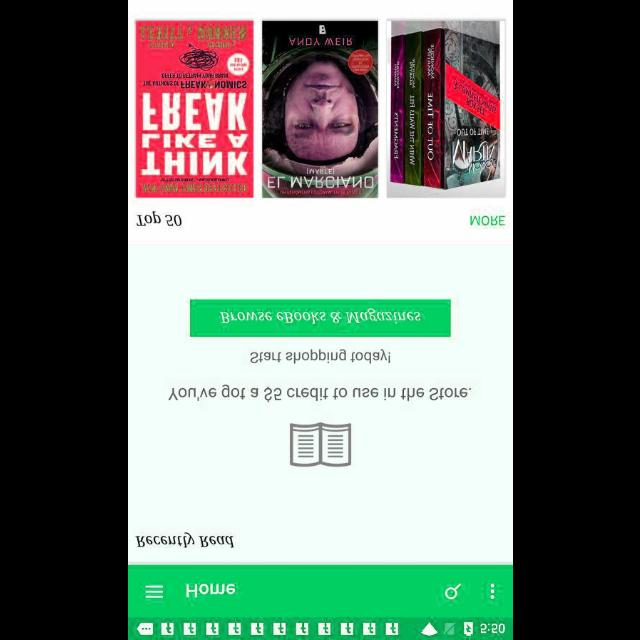icon: (444, 582, 462, 598), (144, 584, 164, 598), (490, 582, 494, 600)
image: (386, 20, 504, 198), (135, 21, 253, 198), (262, 22, 378, 198), (289, 422, 351, 468)
text: (168, 384, 470, 402), (250, 348, 390, 364), (134, 532, 233, 548), (136, 211, 182, 227), (186, 583, 234, 597), (469, 214, 505, 226)
textbutton: (190, 299, 450, 337)
toolbar: (128, 566, 512, 616)
uppertaskbar: (128, 617, 512, 639)
